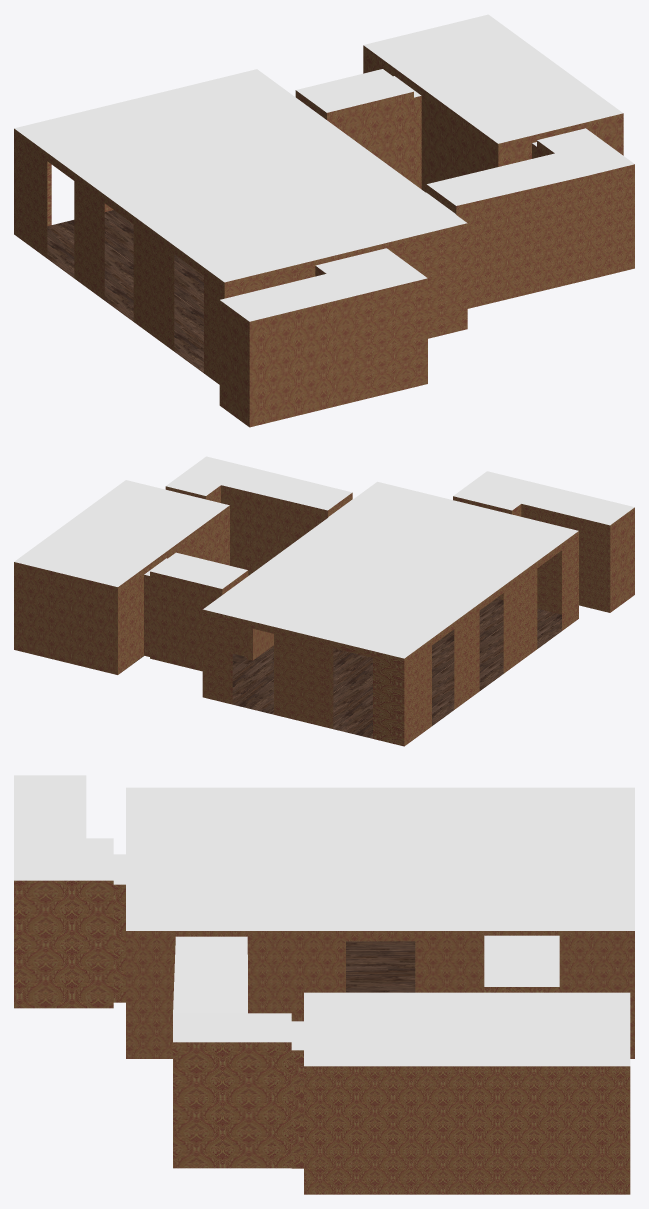
File: rooms1.dae
The picture shows the model from 3 angles, top to bottom: view 1: azimuth 30°, elevation 25°; view 2: azimuth 150°, elevation 25°; view 3: azimuth 270°, elevation 25°; orthographic projection. The views are drawn at different scales.
Parts seen in each view (by area): view 1: Cube; view 2: Cube; view 3: Cube.
Part boxes in pixels (box(x1,y1,x2,y2)): Cube: box(14, 14, 634, 427); Cube: box(14, 456, 634, 746); Cube: box(14, 775, 634, 1194).
Bounding box in the file's own units: 34.13 × 30.75 × 7.01.
4 materials, 3 textured.
